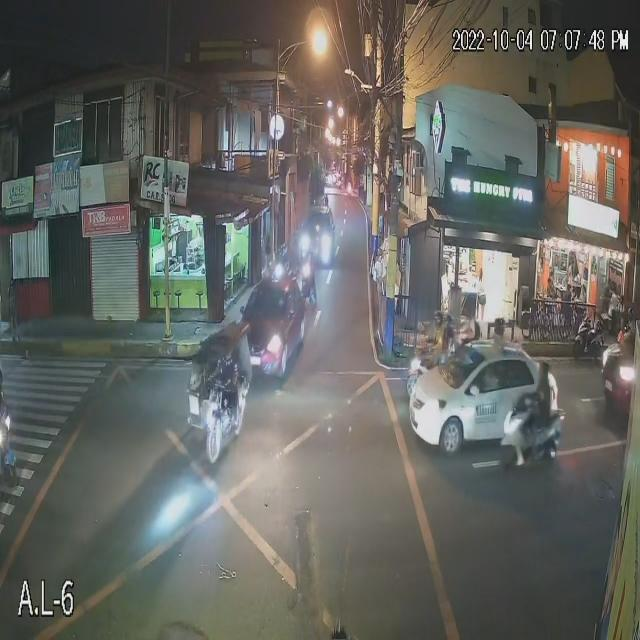helmet: (432, 310, 443, 325), (442, 314, 453, 325)
motorcycle: (500, 399, 568, 470), (403, 347, 442, 399), (574, 318, 604, 356)
rider: (527, 381, 561, 440), (431, 324, 447, 358), (442, 325, 454, 358)
